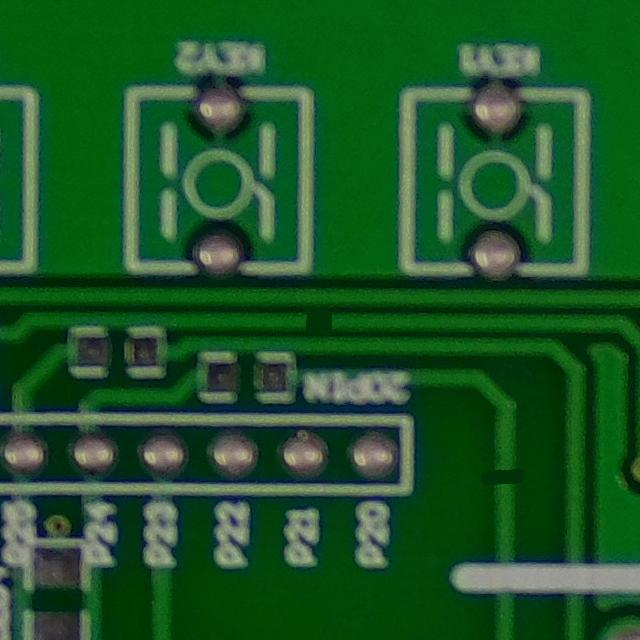open_circuit: (298, 306, 342, 335)
